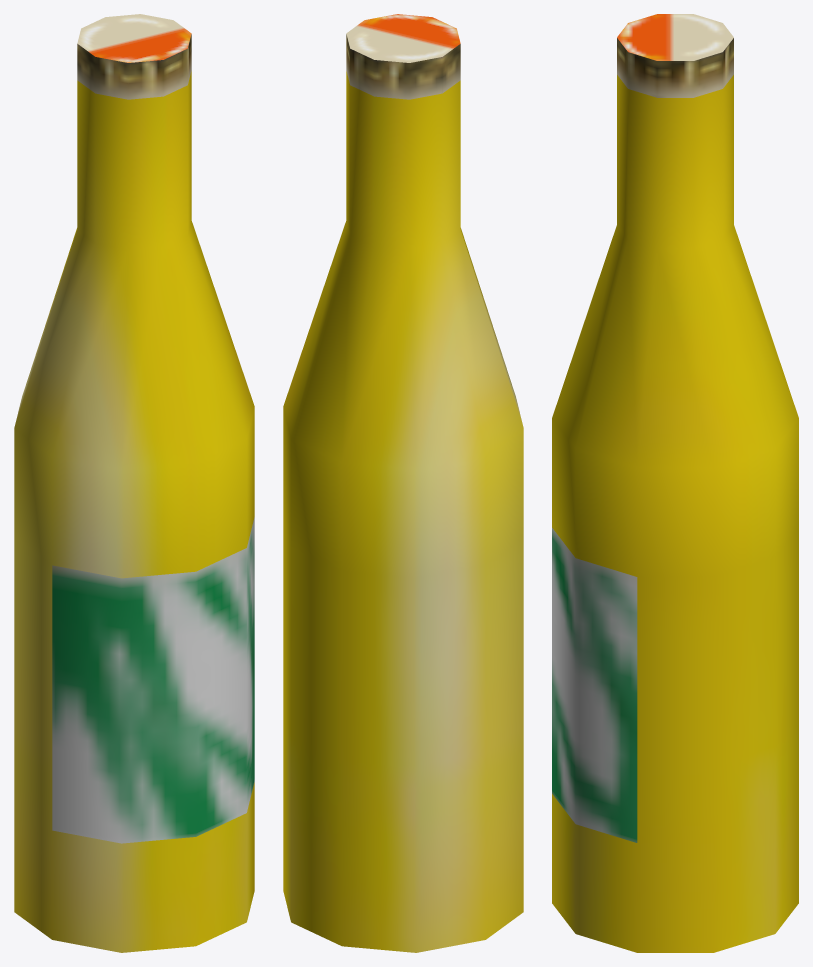
Rendered from giftgoods081d.fbx.
3 views of the same model, side by side, from view 1: azimuth 30°, elevation 25°; view 2: azimuth 150°, elevation 25°; view 3: azimuth 270°, elevation 25° (orthographic).
Visible parts, largest first — view 1: giftgoods081d; view 2: giftgoods081d; view 3: giftgoods081d.
Boxes of the visible parts, x1=… form: giftgoods081d: x1=14, y1=14, x2=254, y2=952; giftgoods081d: x1=283, y1=14, x2=523, y2=952; giftgoods081d: x1=552, y1=14, x2=798, y2=952.
Bounding box in the file's own units: 0.0797 × 0.3241 × 0.0838.
